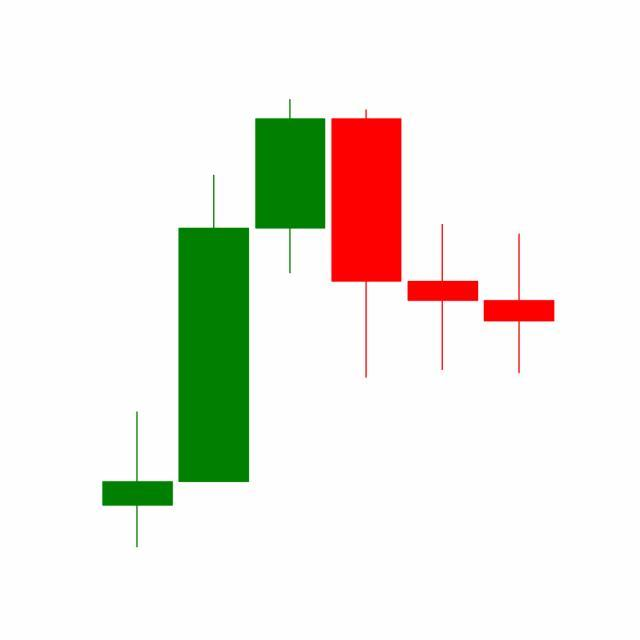Spinning Top: (404, 223, 482, 374)
